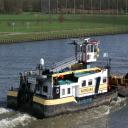tugboat: (8, 38, 120, 121)
